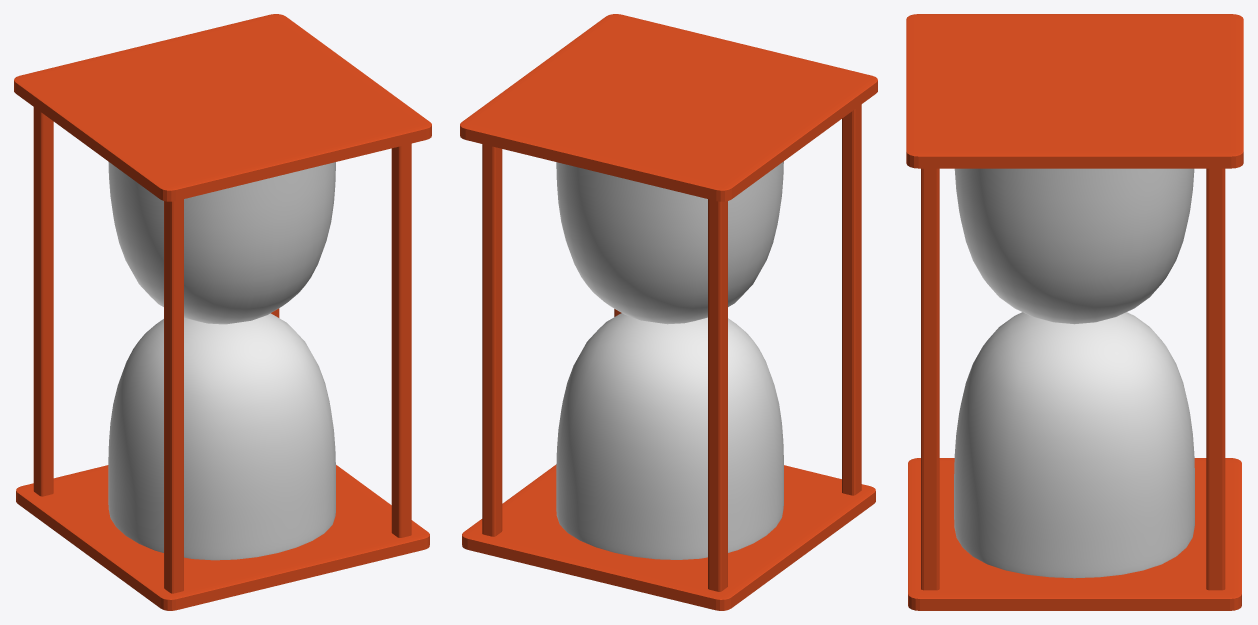
Rendered from hourglass.fbx.
3 views of the same model, side by side, from view 1: azimuth 30°, elevation 25°; view 2: azimuth 150°, elevation 25°; view 3: azimuth 270°, elevation 25° (orthographic). The views are drawn at different scales.
Parts seen in each view (by area): view 1: Hourglass; view 2: Hourglass; view 3: Hourglass.
Boxes of the visible parts, bbox=[...] form: Hourglass: bbox=[14, 14, 431, 610]; Hourglass: bbox=[460, 14, 877, 610]; Hourglass: bbox=[906, 14, 1243, 610].
Size of the model in its own units: 193 by 287 by 193.
